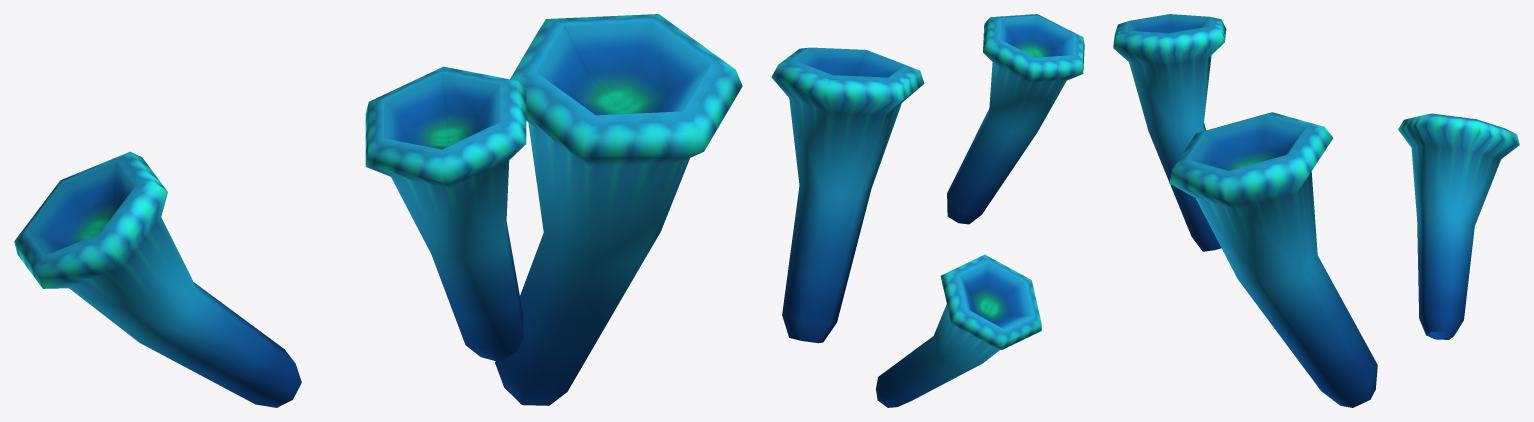
Rendered from Coral_14a.FBX.
3 views of the same model, side by side, from view 1: azimuth 30°, elevation 25°; view 2: azimuth 150°, elevation 25°; view 3: azimuth 270°, elevation 25° (orthographic). The views are drawn at different scales.
Parts seen in each view (by area): view 1: Coral_14a; view 2: Coral_14a; view 3: Coral_14a.
Part boxes in pixels (x1=…): Coral_14a: x1=14, y1=14, x2=742, y2=407; Coral_14a: x1=771, y1=14, x2=1084, y2=407; Coral_14a: x1=1113, y1=14, x2=1519, y2=407.
Bounding box in the file's own units: 17.95 × 14.41 × 16.81.
